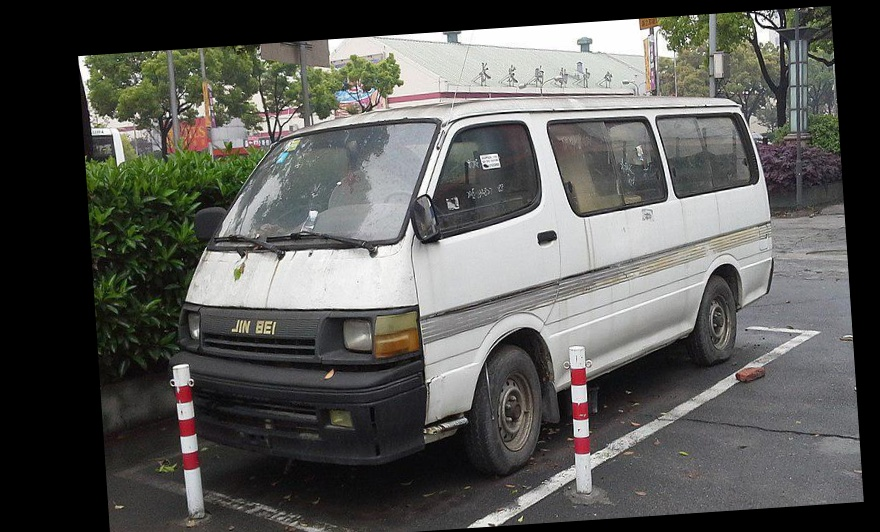van: (164, 78, 793, 458)
